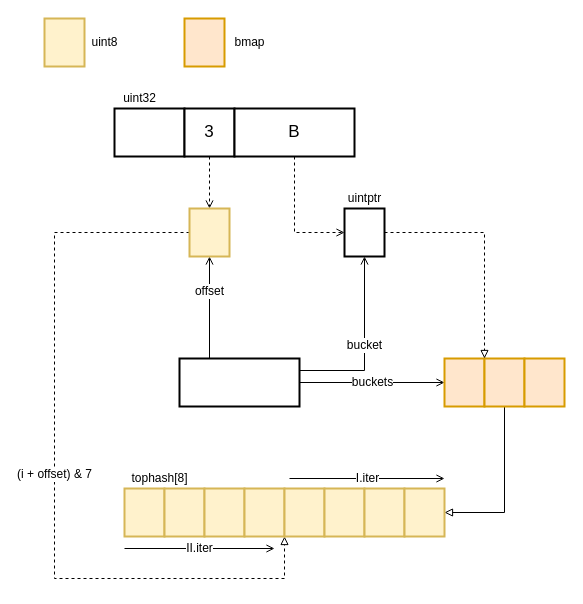
Image size: 583x604. Some labels were removed from this diagram. The shapes that lost their labels are listed below. From the top down, each one's centre as x and y in pixels, then its label:
At point (149, 132): "unused".
At point (239, 382): "iter".
